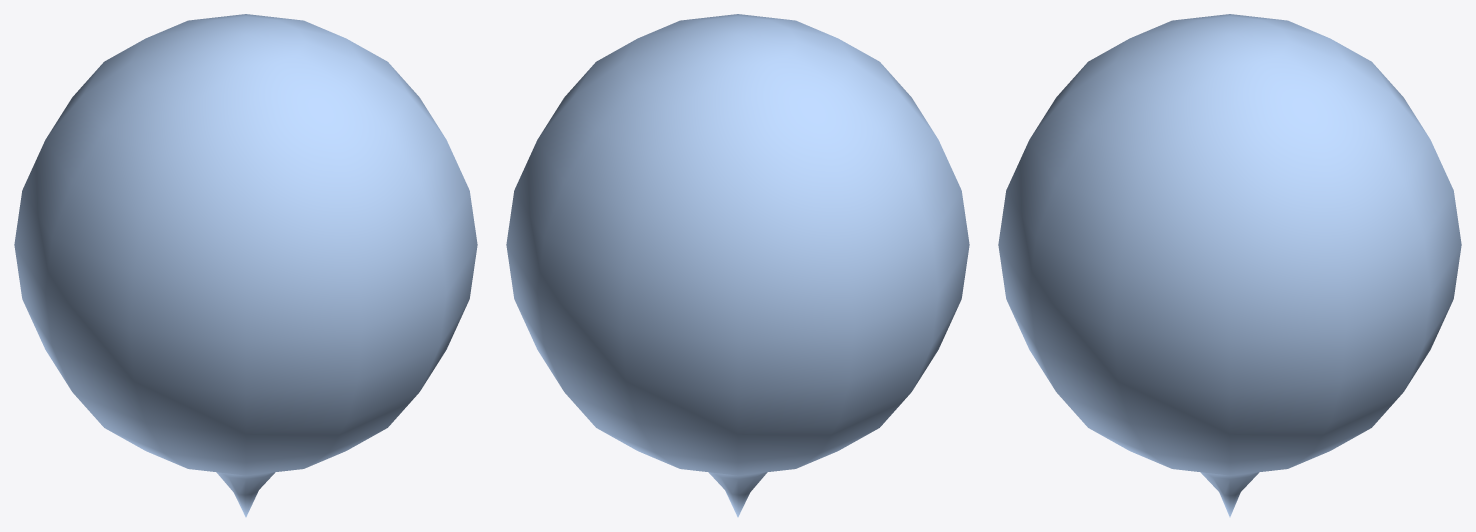
The model's file is bubble.fbx.
3 renders of one model, left to right at view 1: azimuth 30°, elevation 25°; view 2: azimuth 150°, elevation 25°; view 3: azimuth 270°, elevation 25°, orthographic.
Parts seen in each view (by area): view 1: pSphere1; view 2: pSphere1; view 3: pSphere1.
Boxes of the visible parts, box(x1,y1,x2,y2) form: pSphere1: box(14, 14, 477, 517); pSphere1: box(506, 14, 969, 517); pSphere1: box(998, 14, 1461, 517).
Bounding box in the file's own units: 370 × 426 × 370.
